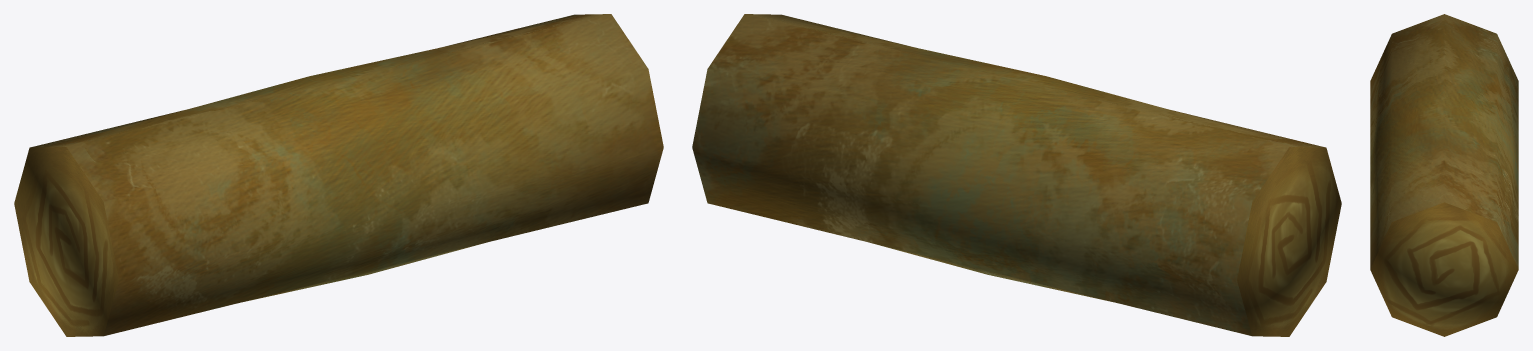
The model's file is Waterfall_Log_Small.fbx.
3 renders of one model, left to right at view 1: azimuth 30°, elevation 25°; view 2: azimuth 150°, elevation 25°; view 3: azimuth 270°, elevation 25°, orthographic. The views are drawn at different scales.
Visible parts, largest first — view 1: pCylinder2; view 2: pCylinder2; view 3: pCylinder2.
Part boxes in pixels (<box>): pCylinder2: <box>14,14,663,336</box>; pCylinder2: <box>692,14,1341,336</box>; pCylinder2: <box>1370,14,1518,336</box>.
Size of the model in its own units: 6 by 2 by 2.
Materials: 1 (1 with a texture image).
